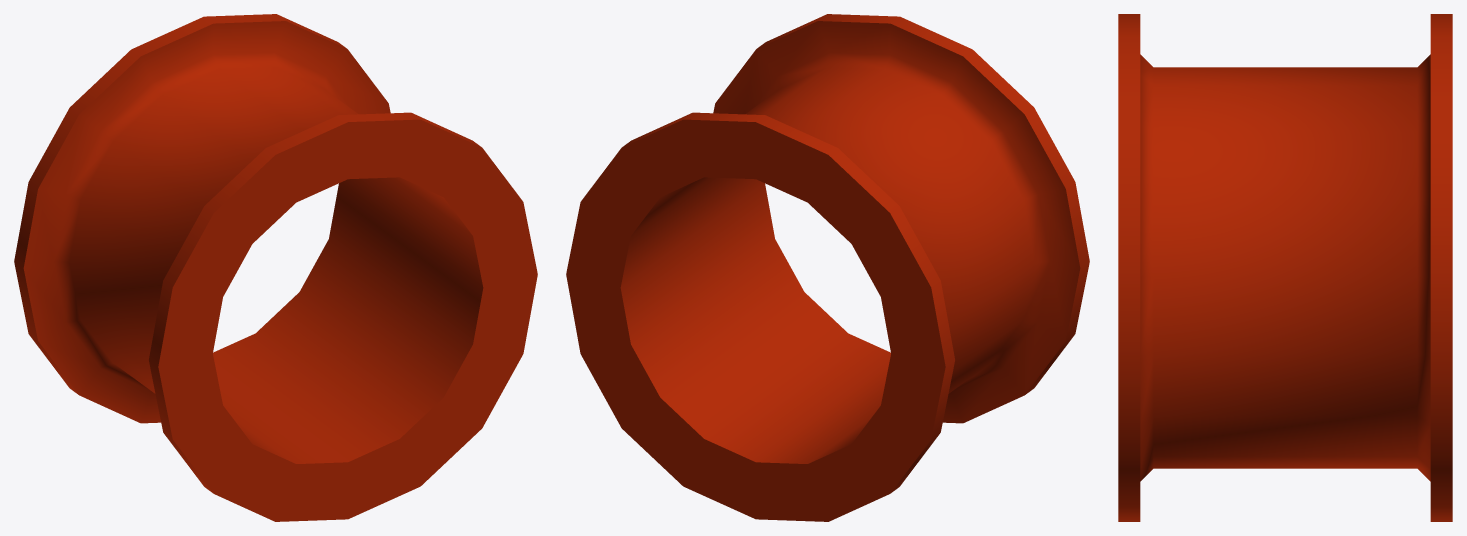
The model's file is sPipe_04.FBX.
3 views of the same model, side by side, from view 1: azimuth 30°, elevation 25°; view 2: azimuth 150°, elevation 25°; view 3: azimuth 270°, elevation 25° (orthographic). The views are drawn at different scales.
Parts seen in each view (by area): view 1: Pipe_up1_004_Low003; view 2: Pipe_up1_004_Low003; view 3: Pipe_up1_004_Low003.
Boxes of the visible parts, box(x1,y1,x2,y2) form: Pipe_up1_004_Low003: box(14, 14, 537, 521); Pipe_up1_004_Low003: box(566, 14, 1089, 521); Pipe_up1_004_Low003: box(1118, 14, 1452, 521).
Size of the model in its own units: 19 by 19 by 12.5.
